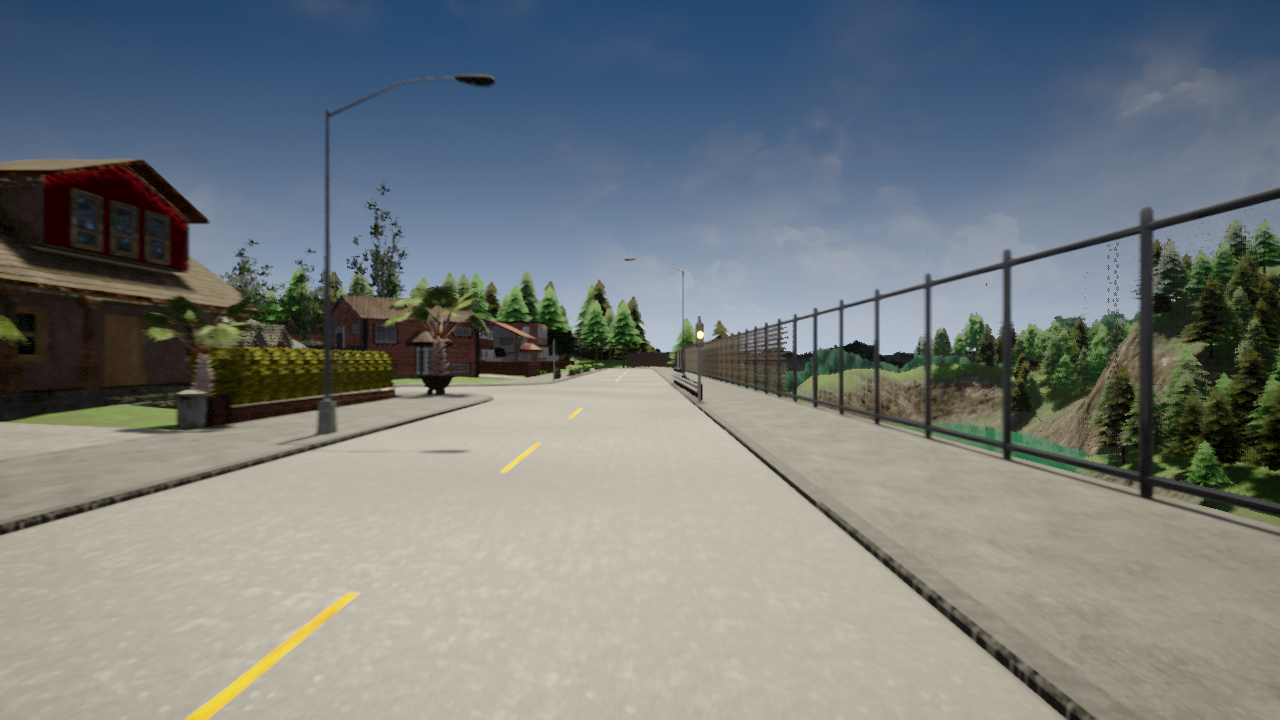yellow: (695, 321, 704, 348)
